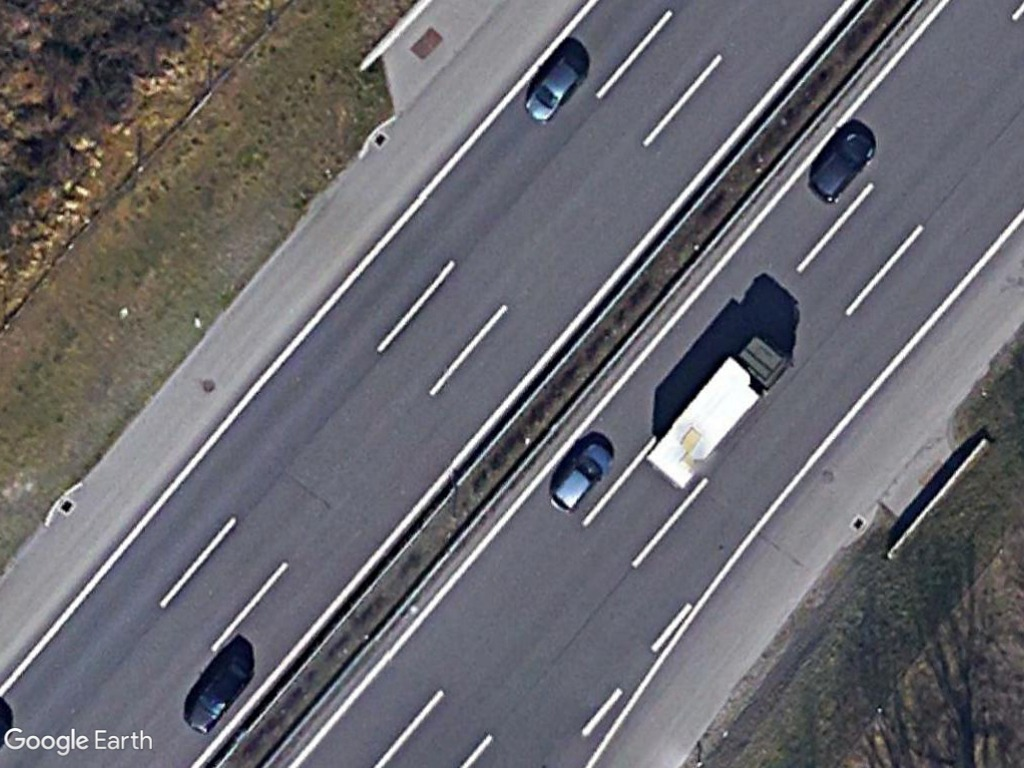car: (806, 128, 877, 205), (548, 441, 616, 519), (523, 54, 587, 125)
truck: (649, 336, 789, 490)
